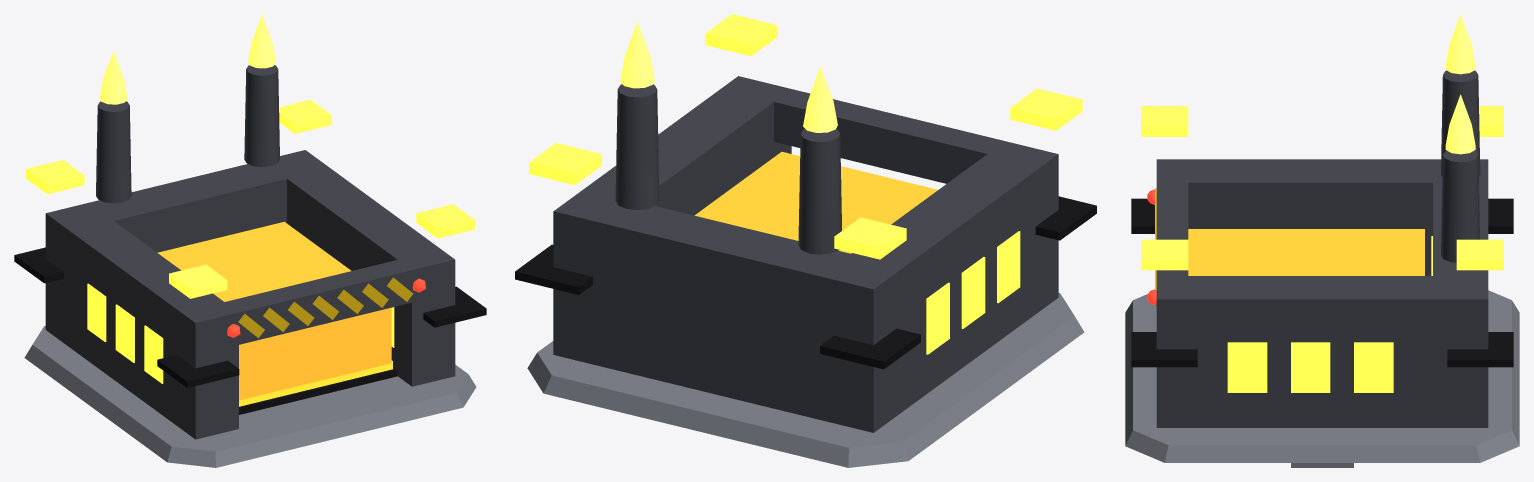
File: ClassicIncineratorFurnace_Roblox.fbx
The picture shows the model from 3 angles, left to right: view 1: azimuth 30°, elevation 25°; view 2: azimuth 150°, elevation 25°; view 3: azimuth 270°, elevation 25°; orthographic projection. The views are drawn at different scales.
Parts seen in each view (by area): view 1: DarkPlate, SteelPlate, BurnZone, OrangeNeon, Black, HazardYellow, Flame, LavaPit; view 2: DarkPlate, SteelPlate, OrangeNeon, BurnZone, Black, Flame; view 3: DarkPlate, SteelPlate, OrangeNeon, BurnZone, Black, Flame.
Part boxes in pixels (left/top/right/bottom): DarkPlate: left=45, top=65, right=455, bottom=439; SteelPlate: left=24, top=326, right=476, bottom=467; BurnZone: left=157, top=221, right=391, bottom=400; OrangeNeon: left=26, top=99, right=474, bottom=383; Black: left=14, top=247, right=486, bottom=414; HazardYellow: left=238, top=277, right=413, bottom=337; Flame: left=99, top=14, right=276, bottom=104; LavaPit: left=239, top=360, right=392, bottom=406; DarkPlate: left=553, top=76, right=1058, bottom=432; SteelPlate: left=527, top=293, right=1084, bottom=467; OrangeNeon: left=529, top=14, right=1082, bottom=354; BurnZone: left=694, top=151, right=937, bottom=253; Black: left=515, top=196, right=1096, bottom=369; Flame: left=620, top=21, right=837, bottom=132; DarkPlate: left=1156, top=70, right=1488, bottom=427; SteelPlate: left=1125, top=290, right=1519, bottom=467; OrangeNeon: left=1141, top=106, right=1503, bottom=392; BurnZone: left=1188, top=229, right=1424, bottom=275; Black: left=1131, top=198, right=1513, bottom=367; Flame: left=1445, top=14, right=1475, bottom=154.
Size of the model in its own units: 1000 by 1120 by 1000.
